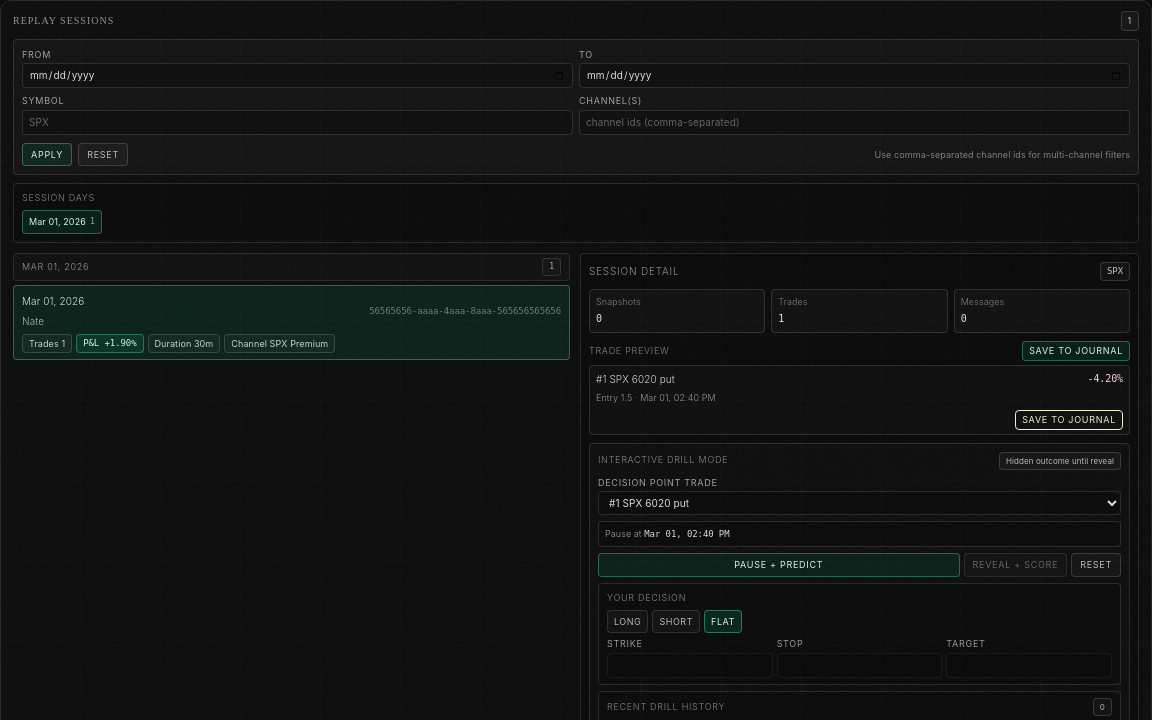
spx-command-center/replay-session-browser › shows deterministic error copy when Save to Journal fails
Expected: the text "#1 SPX 6020 put" is shown, [596,370,675,388]
Click the button with test id "spx-replay-save-journal-session" at (1076, 351), box [1022,341,1130,361]
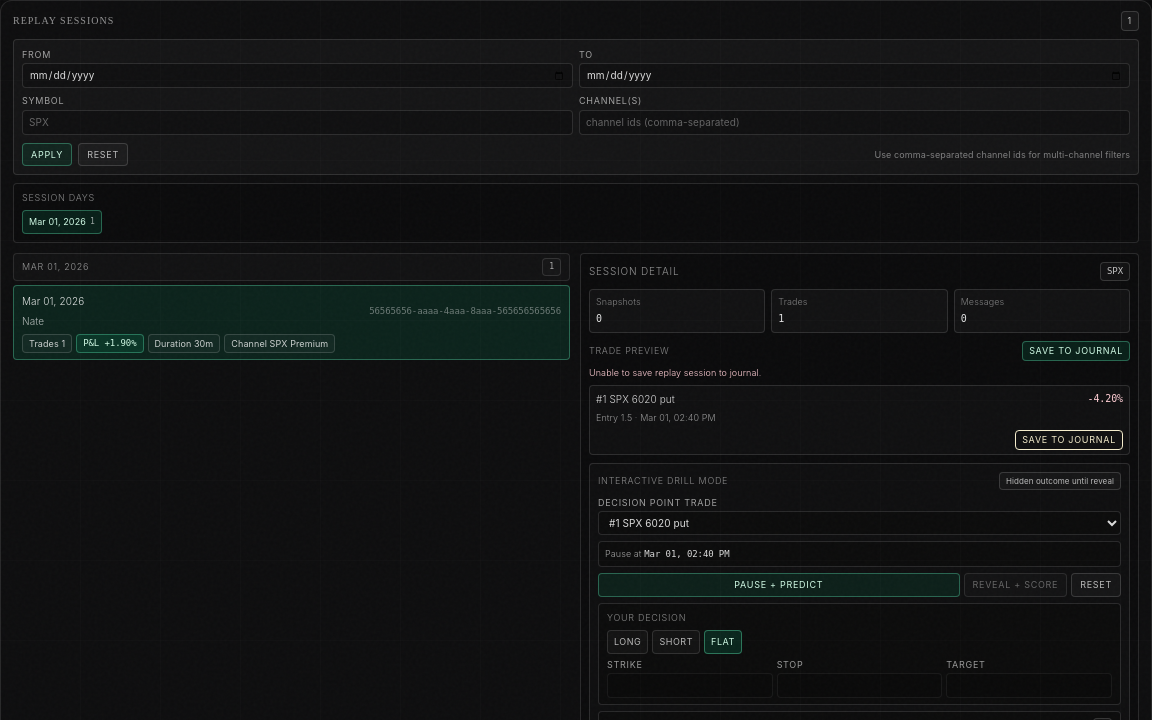
Result: the text with test id "spx-replay-save-journal-status" reads "Unable to save replay session to journal." at [589,367,761,378]
